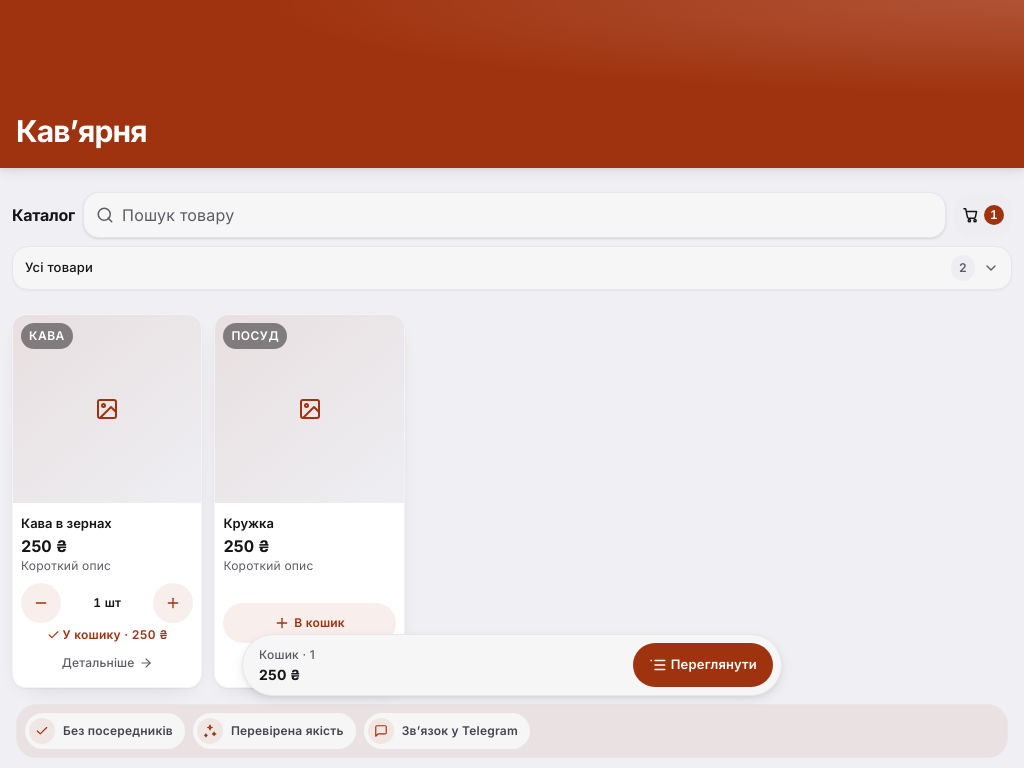
Test: ShopStore — кошик › смуга кошика веде до кошика, не змушуючи шукати кнопку вгорі
Click the button "Переглянути". click: coordinates (703, 665)
box: [633,643,773,687]
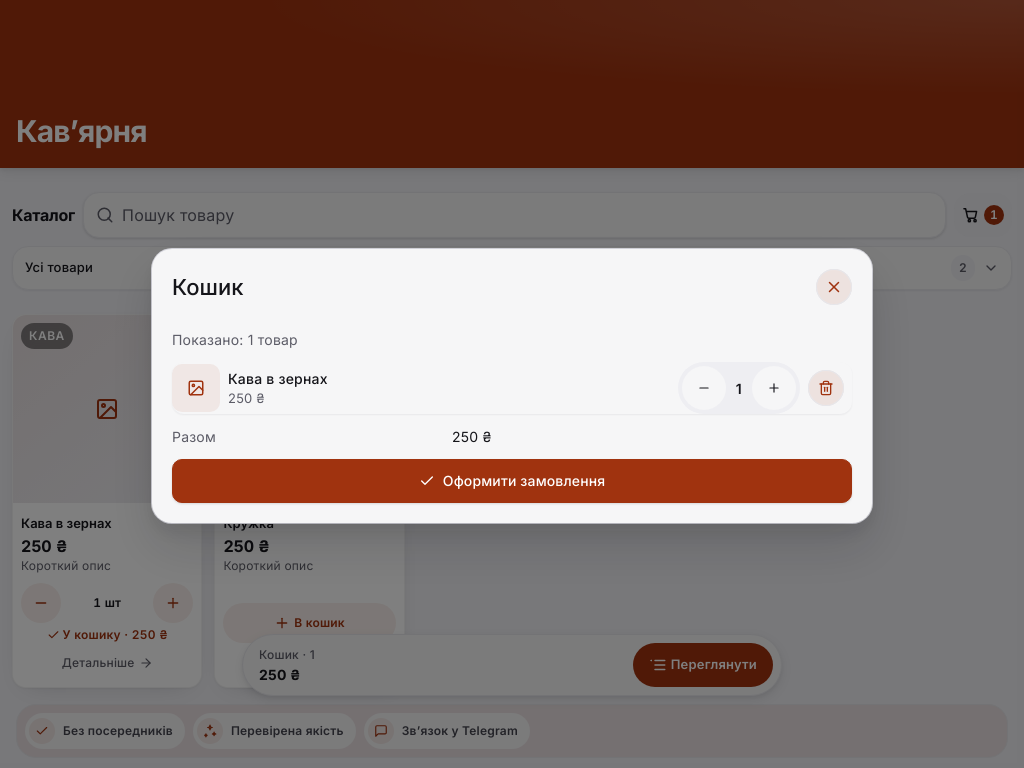
Check: the dialog "Кошик" is shown, box [152,249,872,523]
